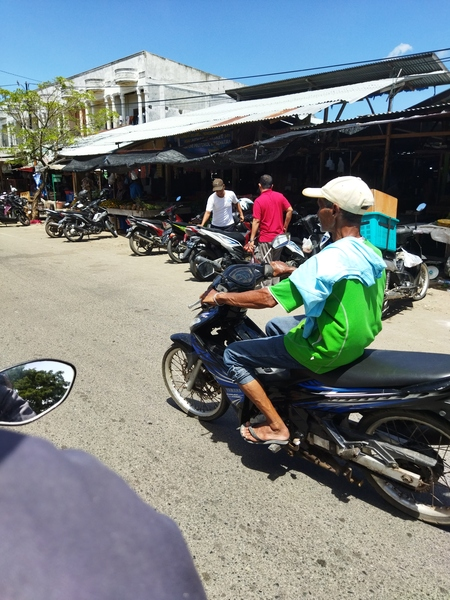motorcycle: (157, 254, 450, 535)
person: (197, 173, 390, 453), (248, 172, 295, 274), (200, 177, 245, 245)
